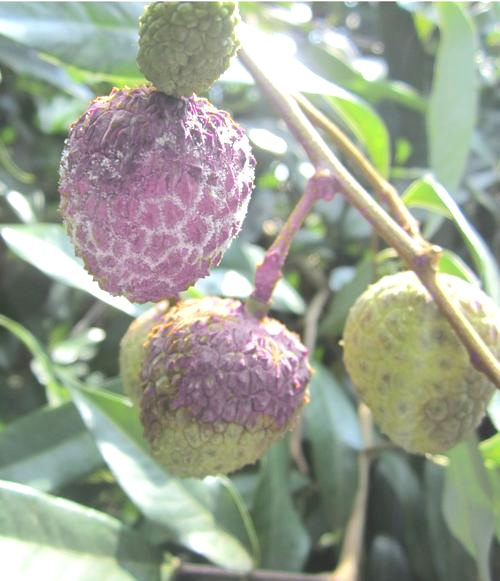Anthracnose: (68, 109, 257, 290), (128, 310, 289, 412), (417, 345, 500, 446)
